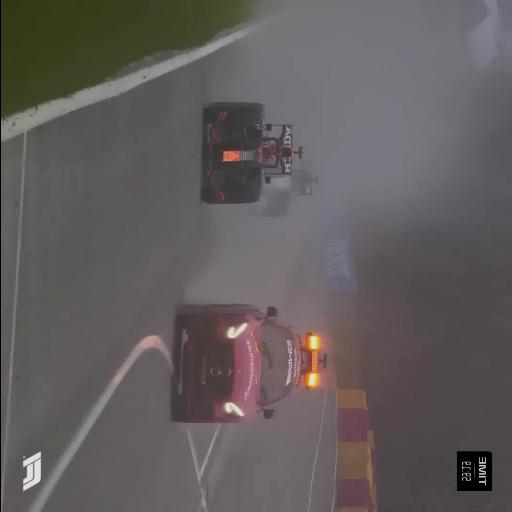f1_car: (201, 102, 302, 204), (251, 166, 317, 218), (302, 160, 304, 162)
